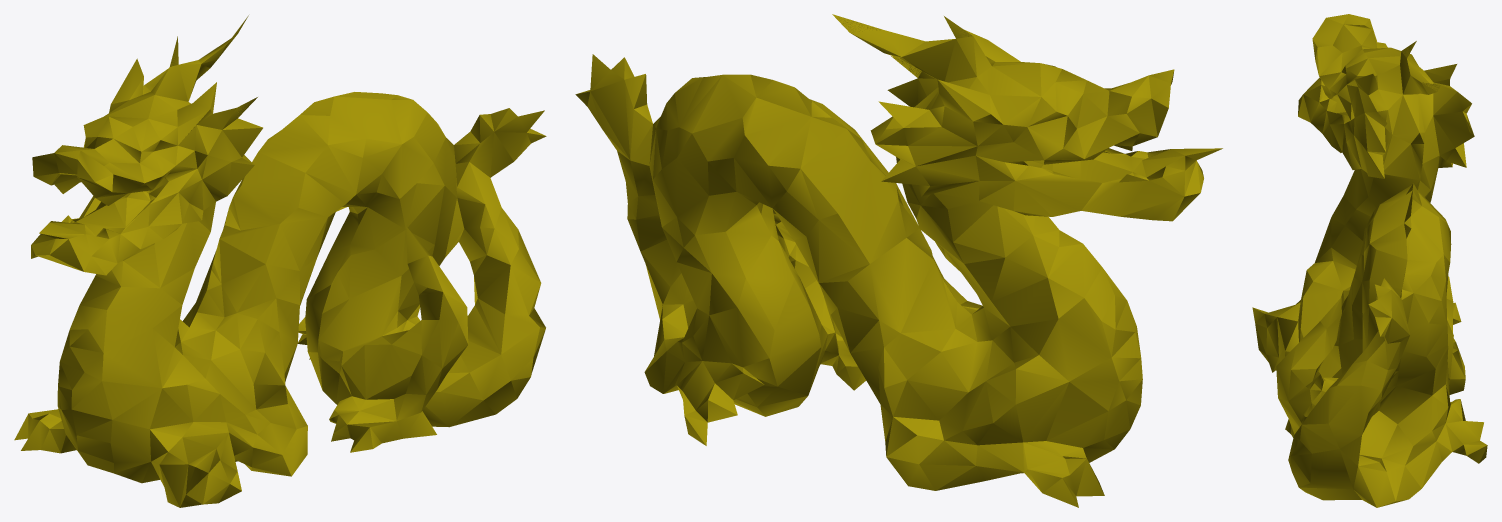
Rendered from Dragon_Low.fbx.
3 renders of one model, left to right at view 1: azimuth 30°, elevation 25°; view 2: azimuth 150°, elevation 25°; view 3: azimuth 270°, elevation 25°, orthographic. The views are drawn at different scales.
Visible parts, largest first — view 1: Dragon_Low; view 2: Dragon_Low; view 3: Dragon_Low.
Part boxes in pixels (bbox=[...]): Dragon_Low: bbox=[14, 15, 546, 507]; Dragon_Low: bbox=[575, 14, 1222, 507]; Dragon_Low: bbox=[1252, 14, 1487, 507].
Size of the model in its own units: 217 by 154 by 93.67.
